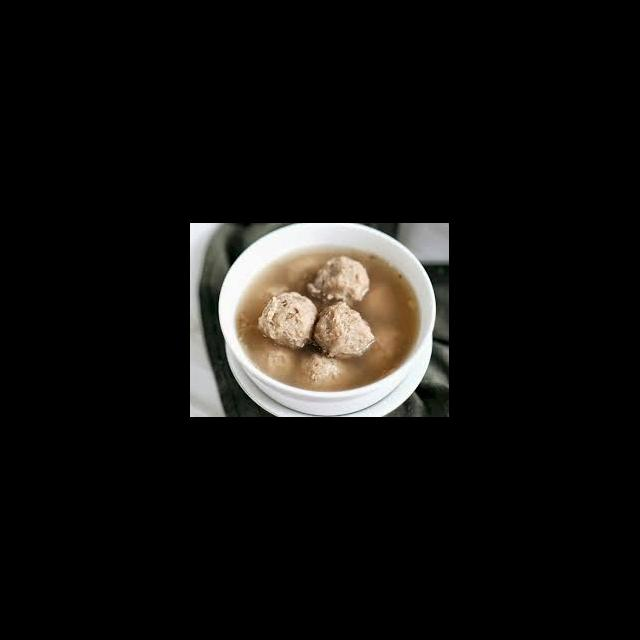food_waste: (252, 248, 376, 365)
